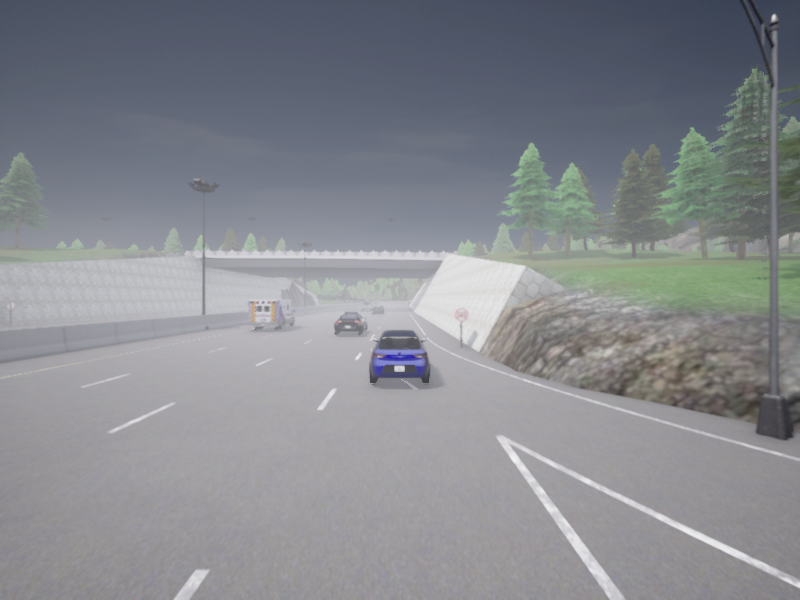vehicle: (369, 329, 429, 383), (248, 300, 295, 329), (334, 312, 366, 333), (373, 305, 384, 313), (362, 302, 373, 310)
